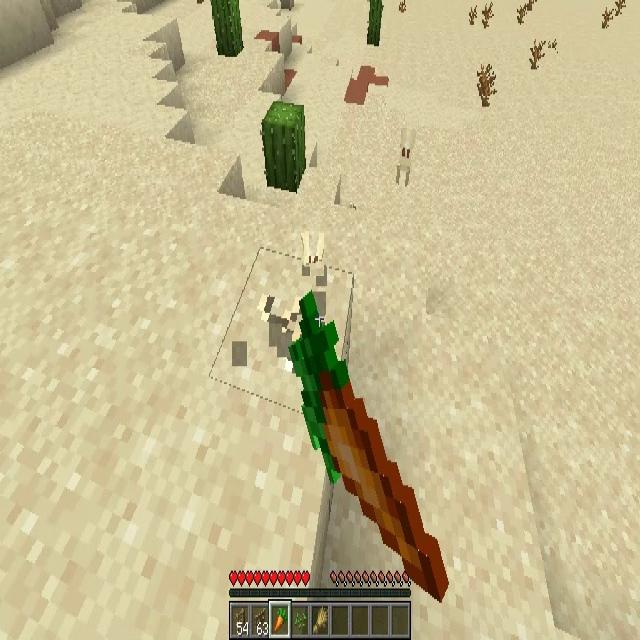rabbit: (396, 123, 416, 191), (302, 228, 324, 276)
